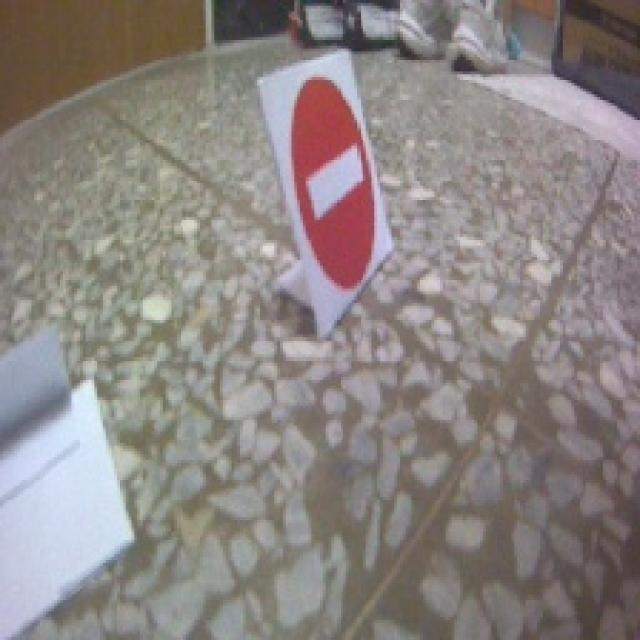DoNotEnterSign: (289, 77, 384, 286)
